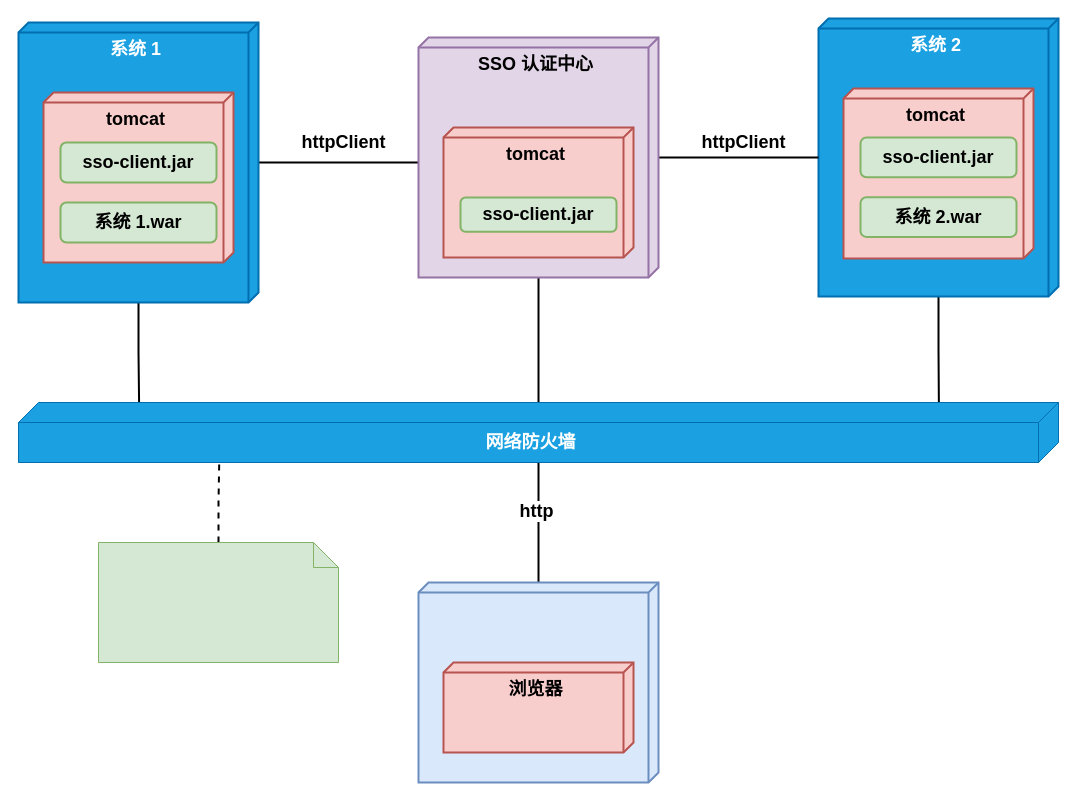
The diagram is 1076 pixels wide and 800 high, and some of its shapes have lost their labels. Each missing label, with the centre of its shape:
单点登录应用 用户访问部署了单点登录的多系统应用群，一次登录，到处访问: the point at 218,602
用户电脑: the point at 538,682
